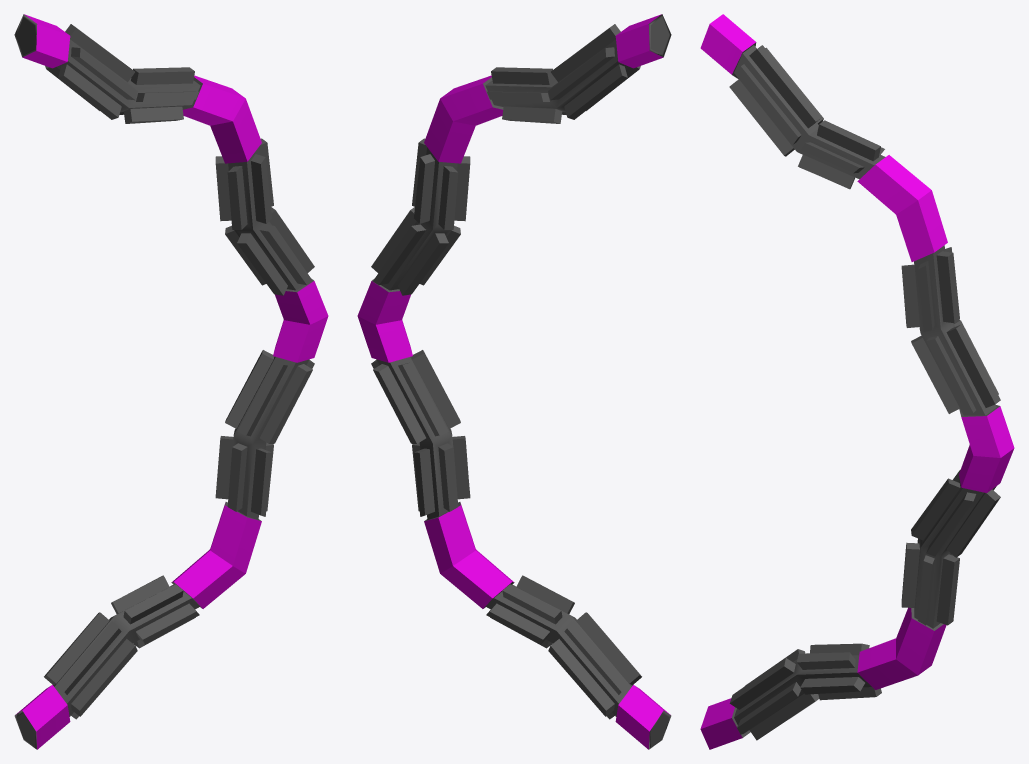
The model's file is Ravens Eye Bow.fbx.
3 views of the same model, side by side, from view 1: azimuth 30°, elevation 25°; view 2: azimuth 150°, elevation 25°; view 3: azimuth 330°, elevation 25° (orthographic).
Visible parts, largest first — view 1: bow; view 2: bow; view 3: bow.
Part boxes in pixels (left/top/right/bottom): bow: left=14, top=14, right=328, bottom=749; bow: left=357, top=14, right=671, bottom=749; bow: left=700, top=14, right=1014, bottom=749.
Bounding box in the file's own units: 1.78 × 4.13 × 0.2965.
